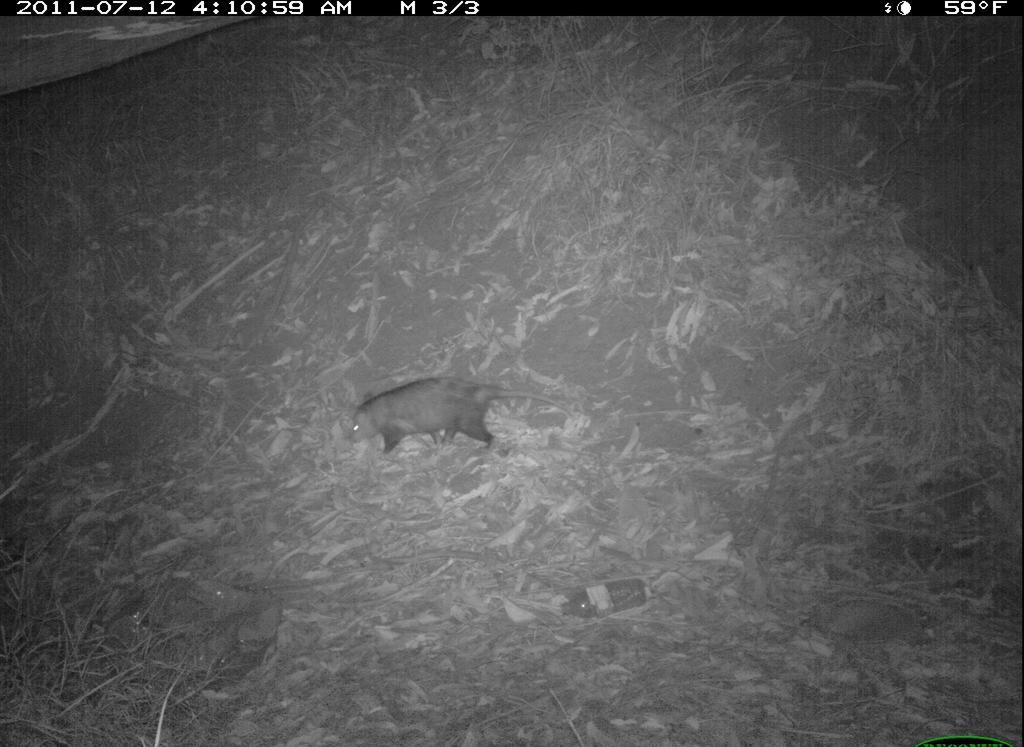opossum: (345, 377, 579, 458)
